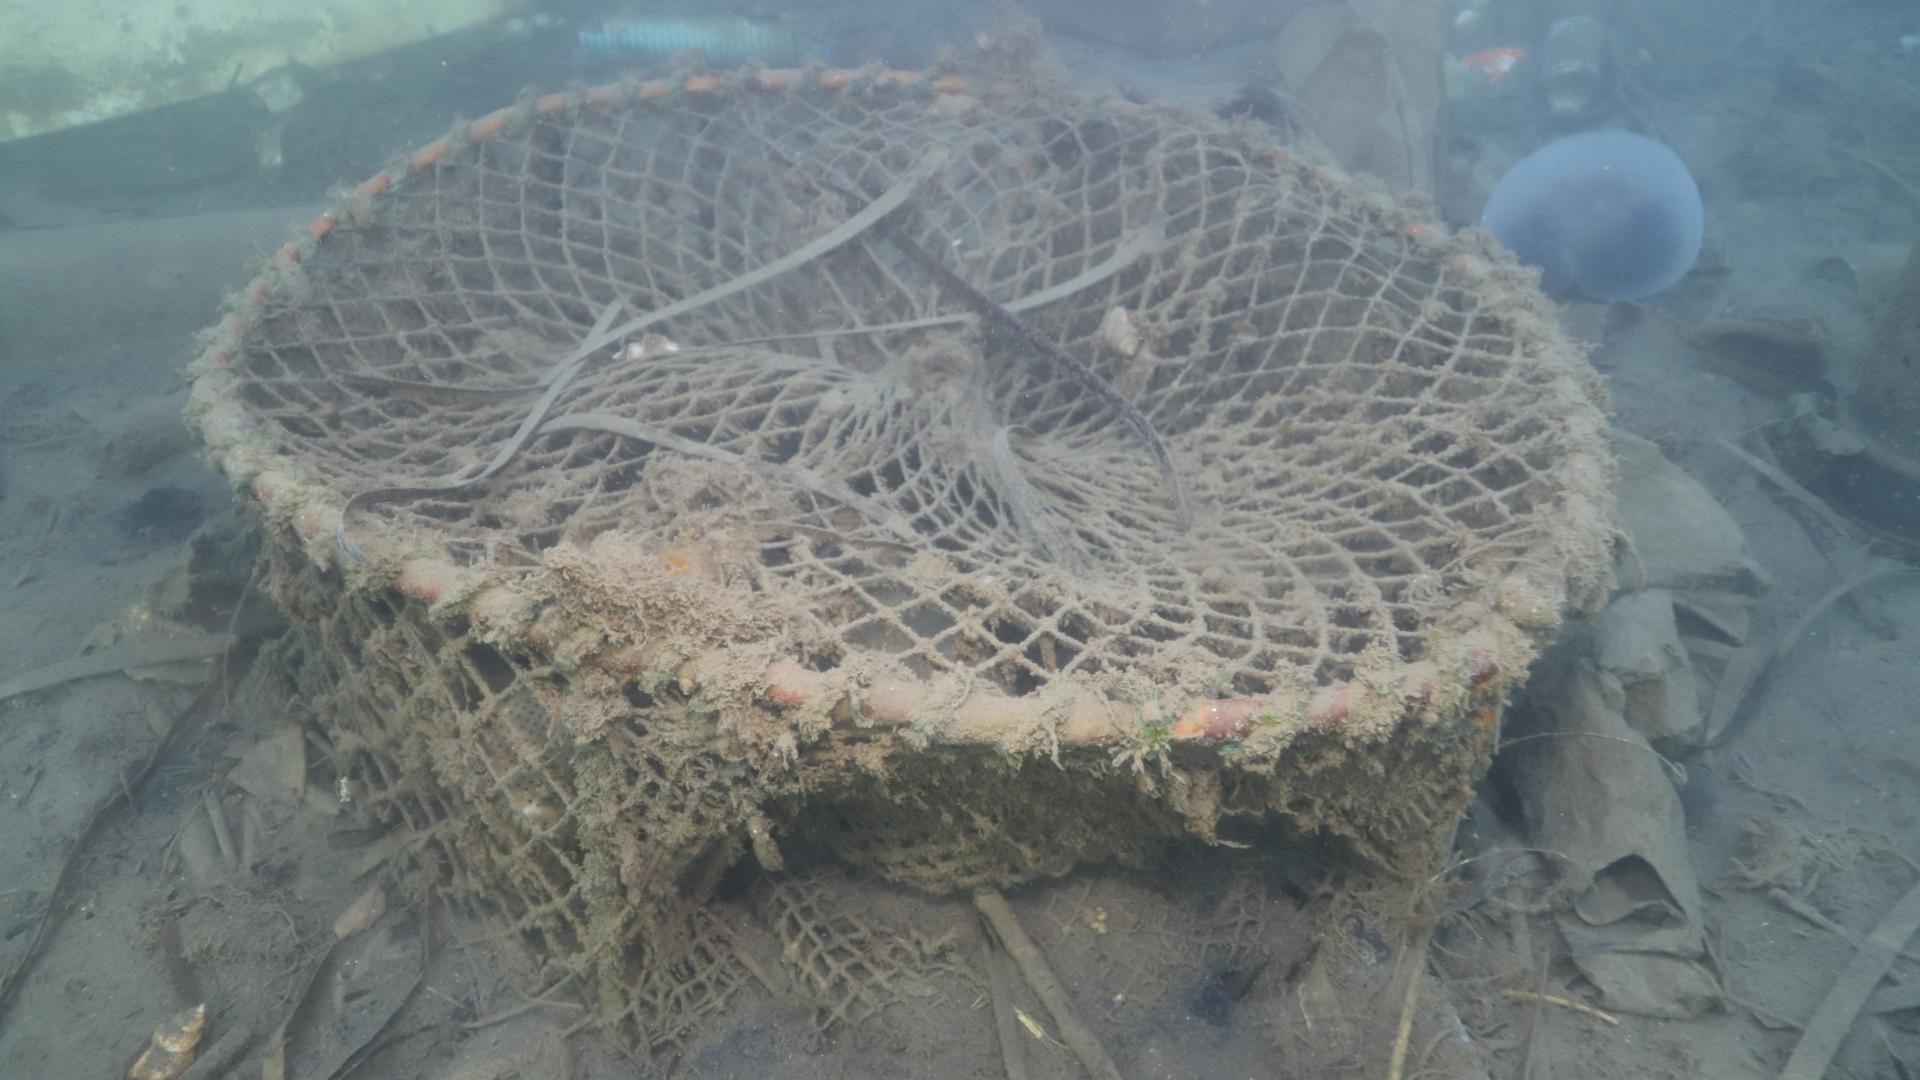circular fish trap: (182, 53, 1618, 1071)
